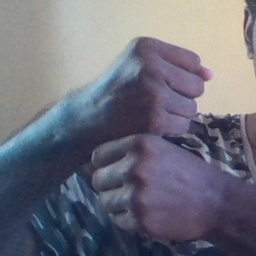G: (82, 35, 216, 238)
